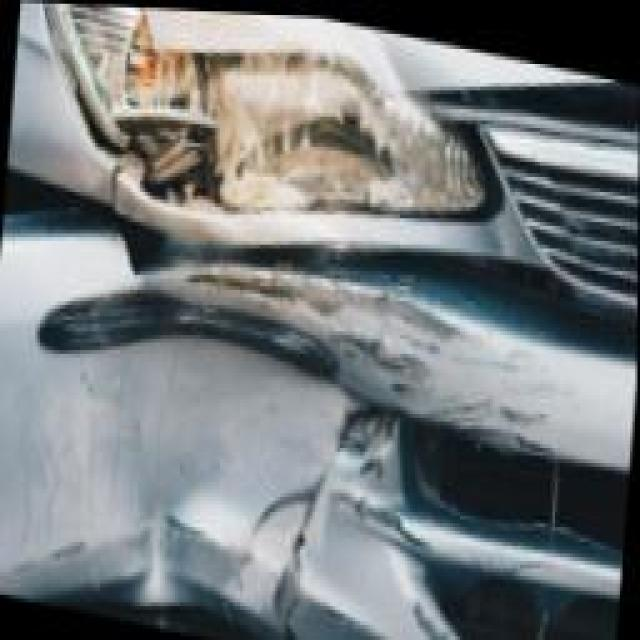Bumper: (0, 177, 629, 640)
Light: (25, 0, 472, 242)
